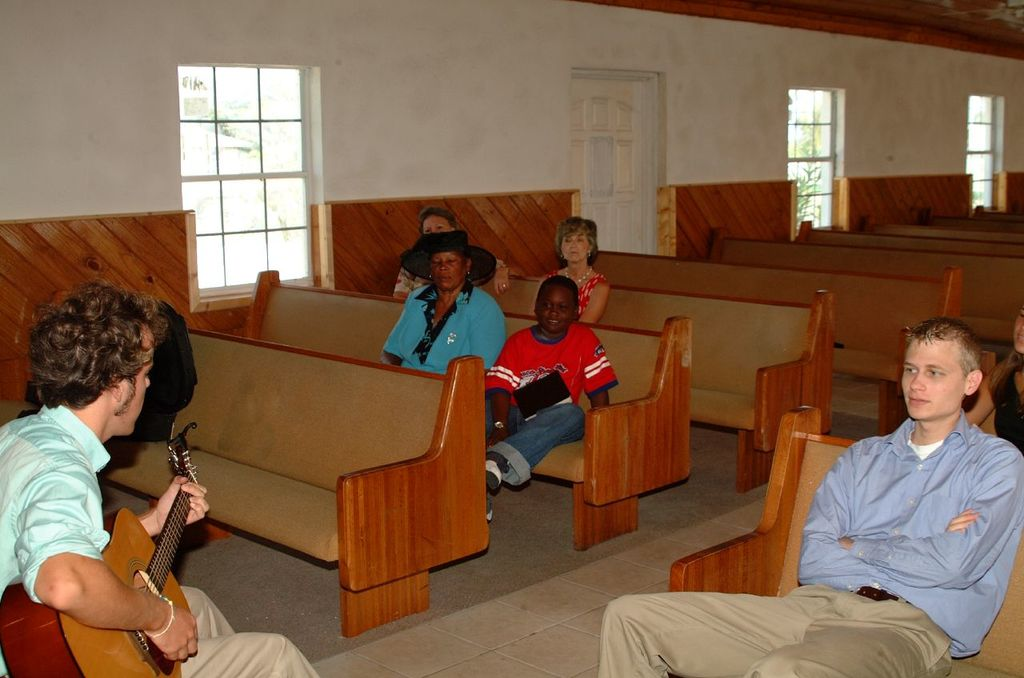Human_hand: (24, 458, 208, 666), (151, 473, 208, 536), (948, 506, 982, 532), (486, 425, 508, 452), (493, 269, 510, 296), (842, 532, 856, 555)
